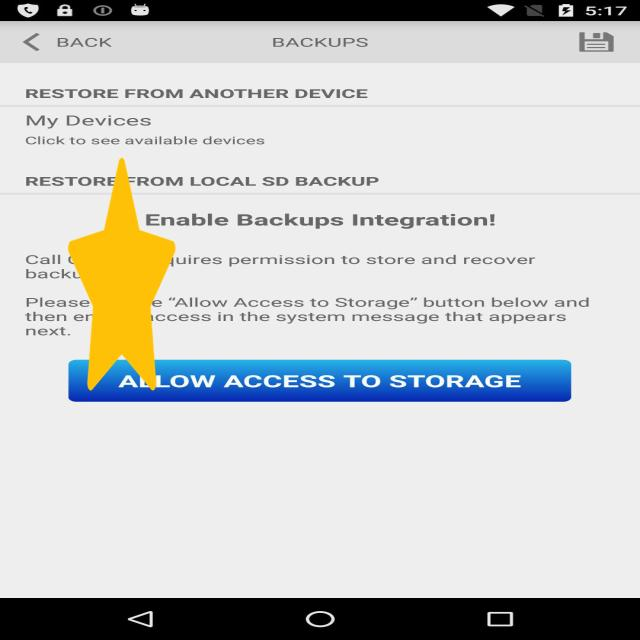forced continuity: (68, 157, 176, 390)
